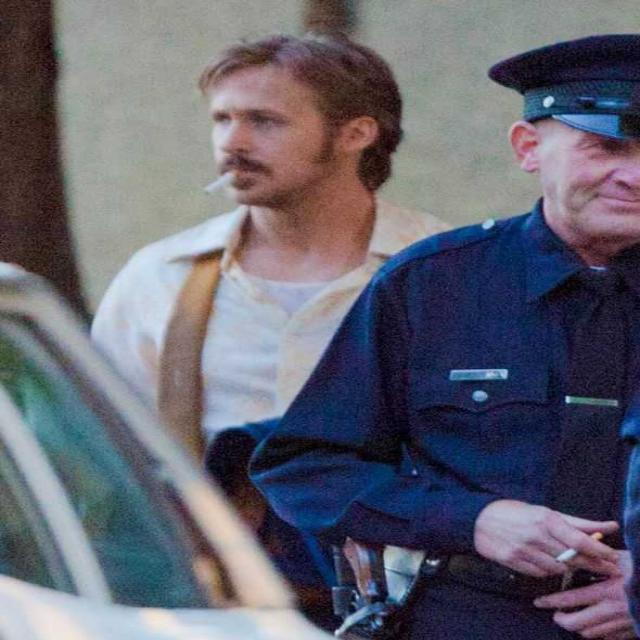Smooking: (206, 163, 248, 195)
